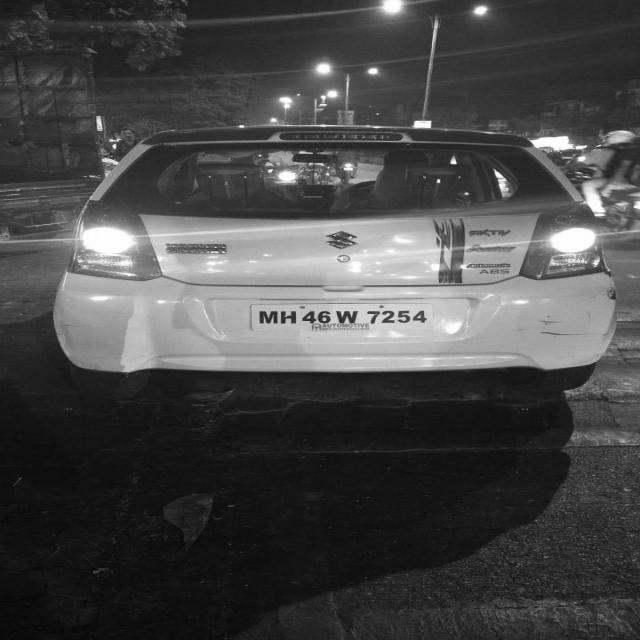car: (51, 121, 620, 406)
license-plate: (252, 300, 447, 336)
